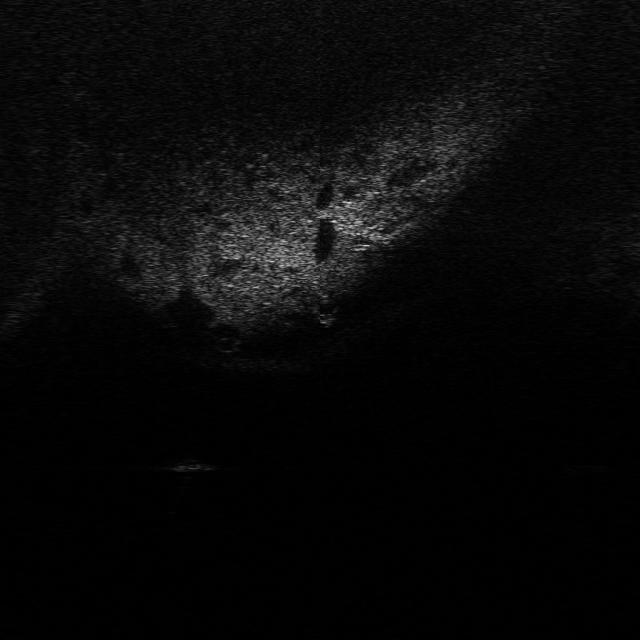ball: (306, 291, 344, 326)
cube: (162, 452, 218, 476)
